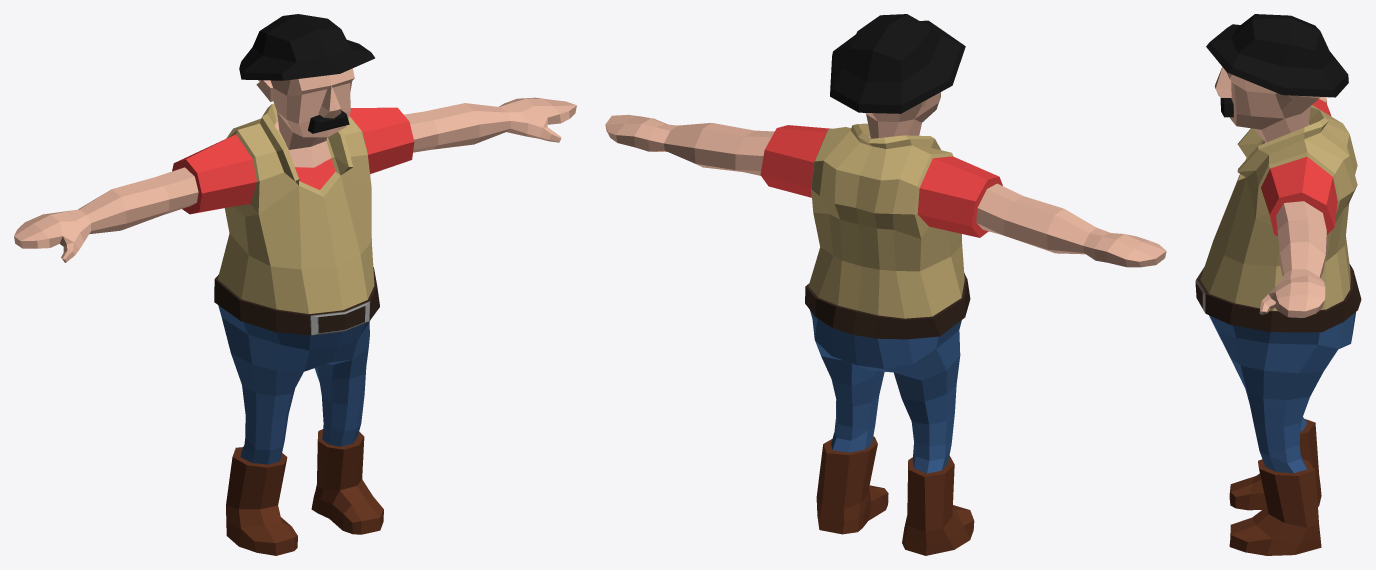
The model's file is dealer T pose.fbx.
The picture shows the model from 3 angles, left to right: view 1: azimuth 30°, elevation 25°; view 2: azimuth 150°, elevation 25°; view 3: azimuth 270°, elevation 25°; orthographic projection.
Visible parts, largest first — view 1: dealerrr.002; view 2: dealerrr.002; view 3: dealerrr.002.
Part boxes in pixels (<box>): dealerrr.002: <box>14,14,576,555</box>; dealerrr.002: <box>605,14,1166,555</box>; dealerrr.002: <box>1195,14,1361,555</box>.
Size of the model in its own units: 941 by 820 by 245.
